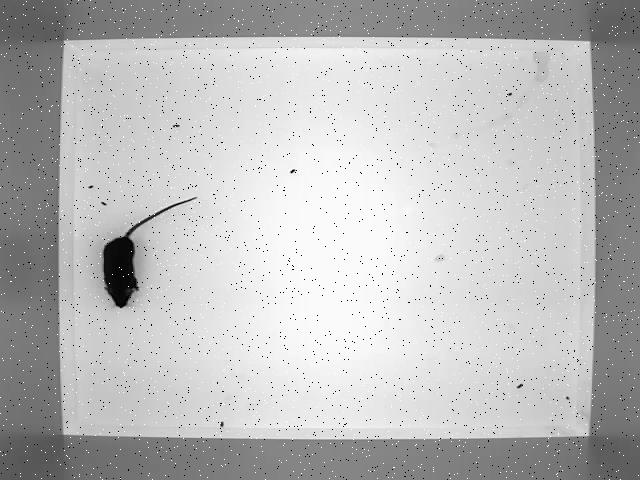Tikus: (100, 195, 201, 309)
